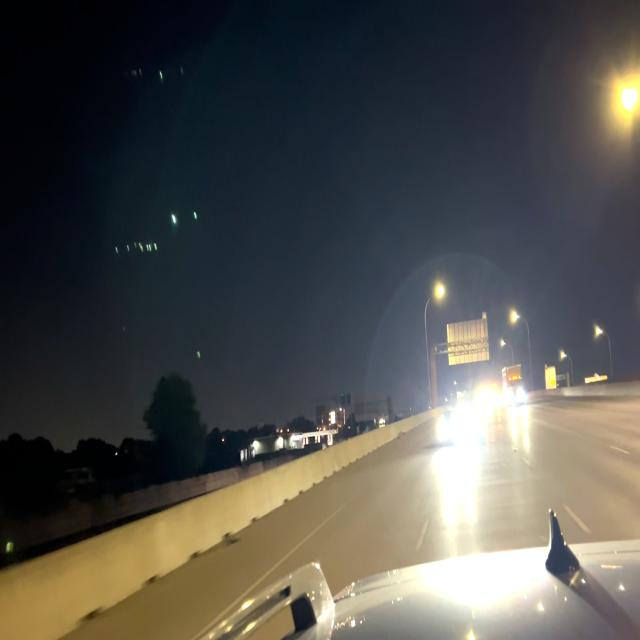back-of-sign: (447, 311, 490, 369), (353, 390, 383, 422)
